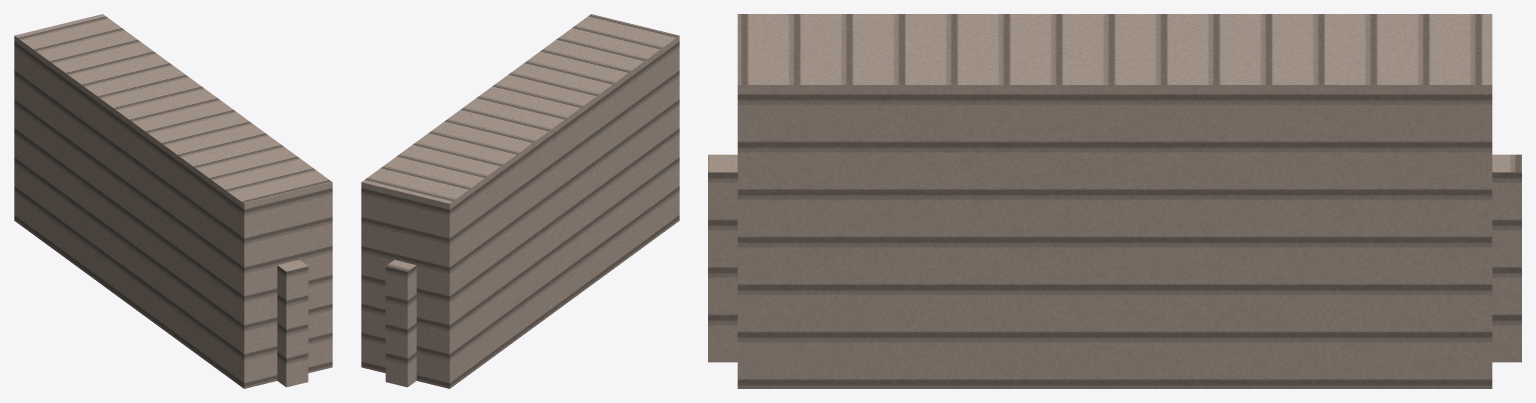
Rendered from vehicle_motorcycle.glb.
3 views of the same model, side by side, from view 1: azimuth 30°, elevation 25°; view 2: azimuth 150°, elevation 25°; view 3: azimuth 270°, elevation 25° (orthographic). The views are drawn at different scales.
Parts seen in each view (by area): view 1: vehicle_motorcycle-col; view 2: vehicle_motorcycle-col; view 3: vehicle_motorcycle-col.
Part boxes in pixels (bbox=[...]): vehicle_motorcycle-col: bbox=[14, 14, 332, 388]; vehicle_motorcycle-col: bbox=[361, 14, 679, 388]; vehicle_motorcycle-col: bbox=[708, 14, 1521, 388].
Bounding box in the file's own units: 0.4 × 0.8 × 1.94.
Materials: 1 (1 with a texture image).
